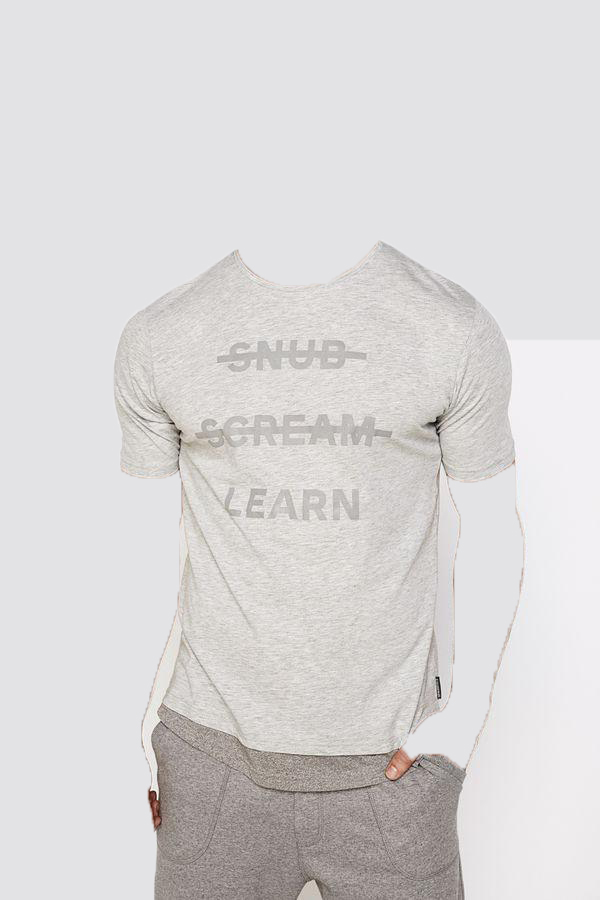teeshirt: (107, 234, 523, 764)
